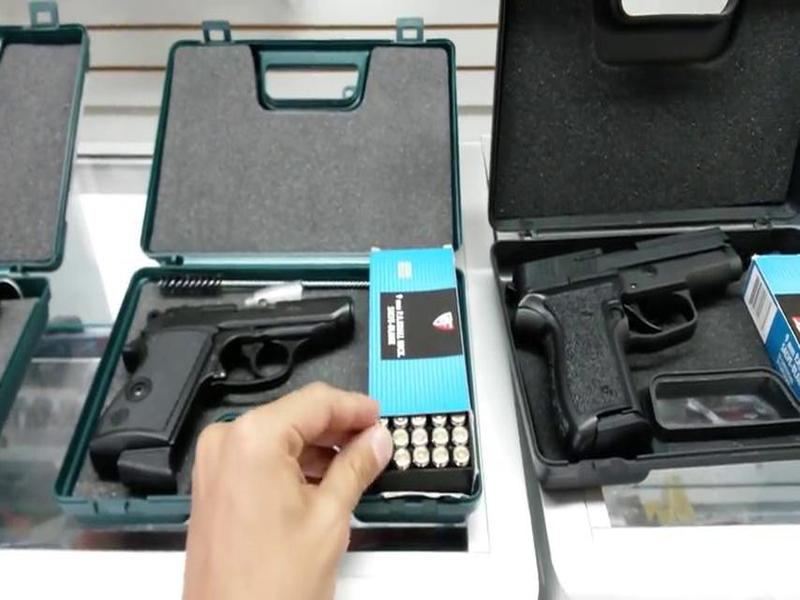Pistola: (88, 264, 366, 491), (499, 221, 739, 461)
